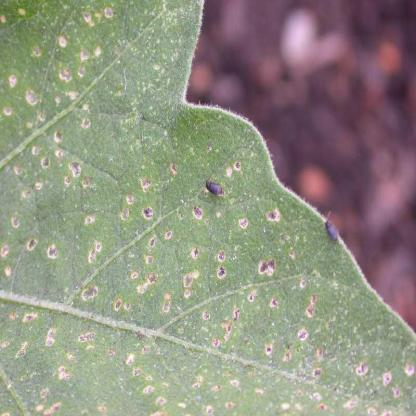beetle: (316, 214, 344, 246), (200, 174, 228, 204)
